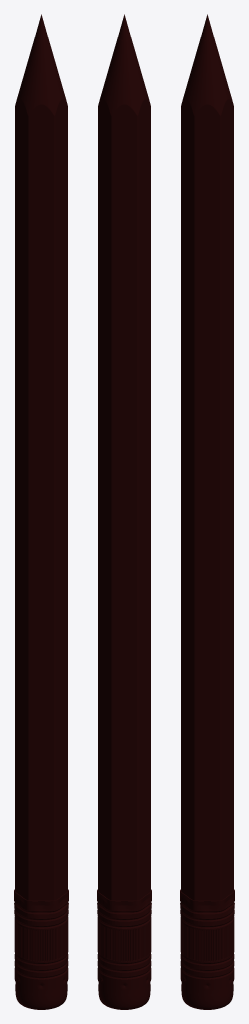
File: pencil_16.obj
The picture shows the model from 3 angles, left to right: view 1: azimuth 90°, elevation 25°; view 2: azimuth 210°, elevation 25°; view 3: azimuth 270°, elevation 25°; orthographic projection.
Bounding box in the file's own units: 2 × 40.77 × 2.05.
